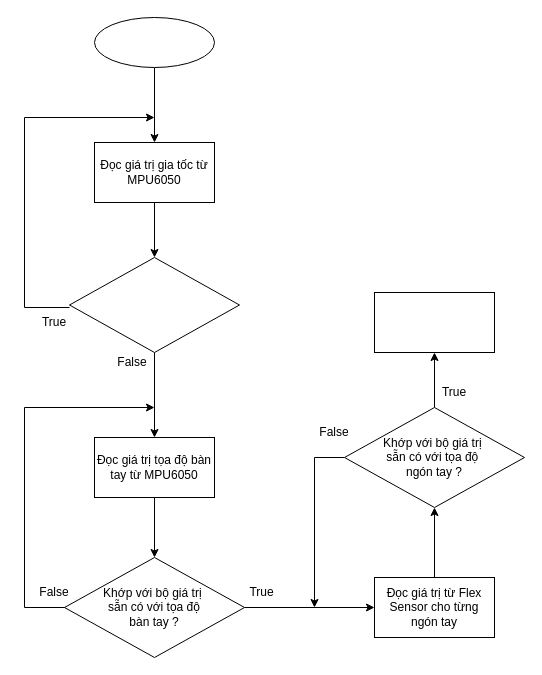
Some shapes in this 542 by 675 pixel diagram are drawn without their labels. Each missing label, with the centre of its shape:
"Bàn tay di chuyển ?" belongs at pixel 154 304.
"Bắt đầu" belongs at pixel 154 42.
"Hiển thị LCD và audio" belongs at pixel 434 322.
